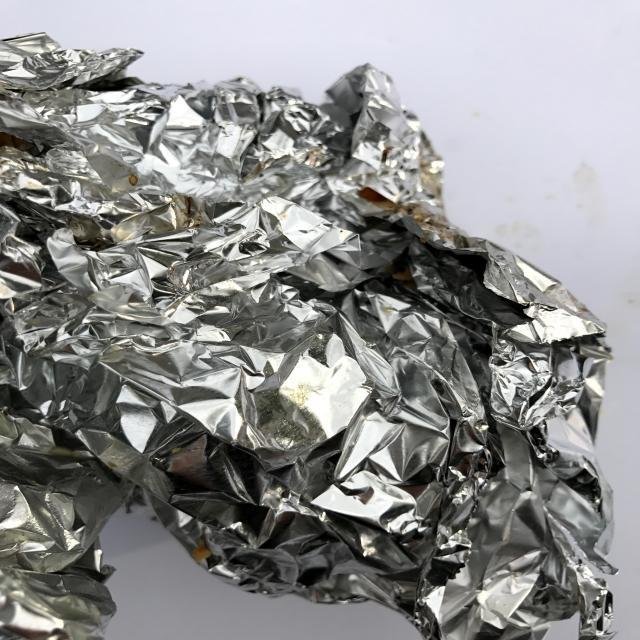metal: (0, 31, 619, 640)
